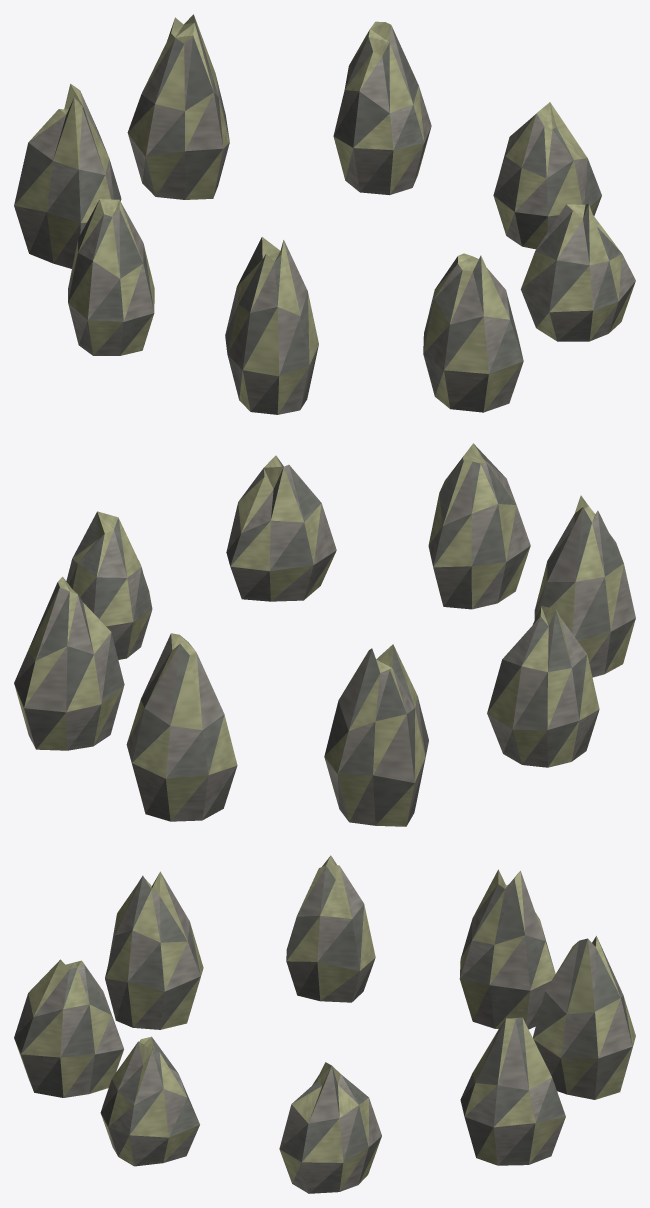
The model's file is stone_circle_8_01.fbx.
3 renders of one model, top to bottom at view 1: azimuth 30°, elevation 25°; view 2: azimuth 150°, elevation 25°; view 3: azimuth 270°, elevation 25°, orthographic. The views are drawn at different scales.
Visible parts, largest first — view 1: stone_circle_8_01; view 2: stone_circle_8_01; view 3: stone_circle_8_01.
Part boxes in pixels (x1,y1,x2,y2): stone_circle_8_01: (14,14,635,414); stone_circle_8_01: (14,443,635,826); stone_circle_8_01: (14,855,635,1193).
Bounding box in the file's own units: 860 × 267 × 1000.
1 material, 1 textured.
